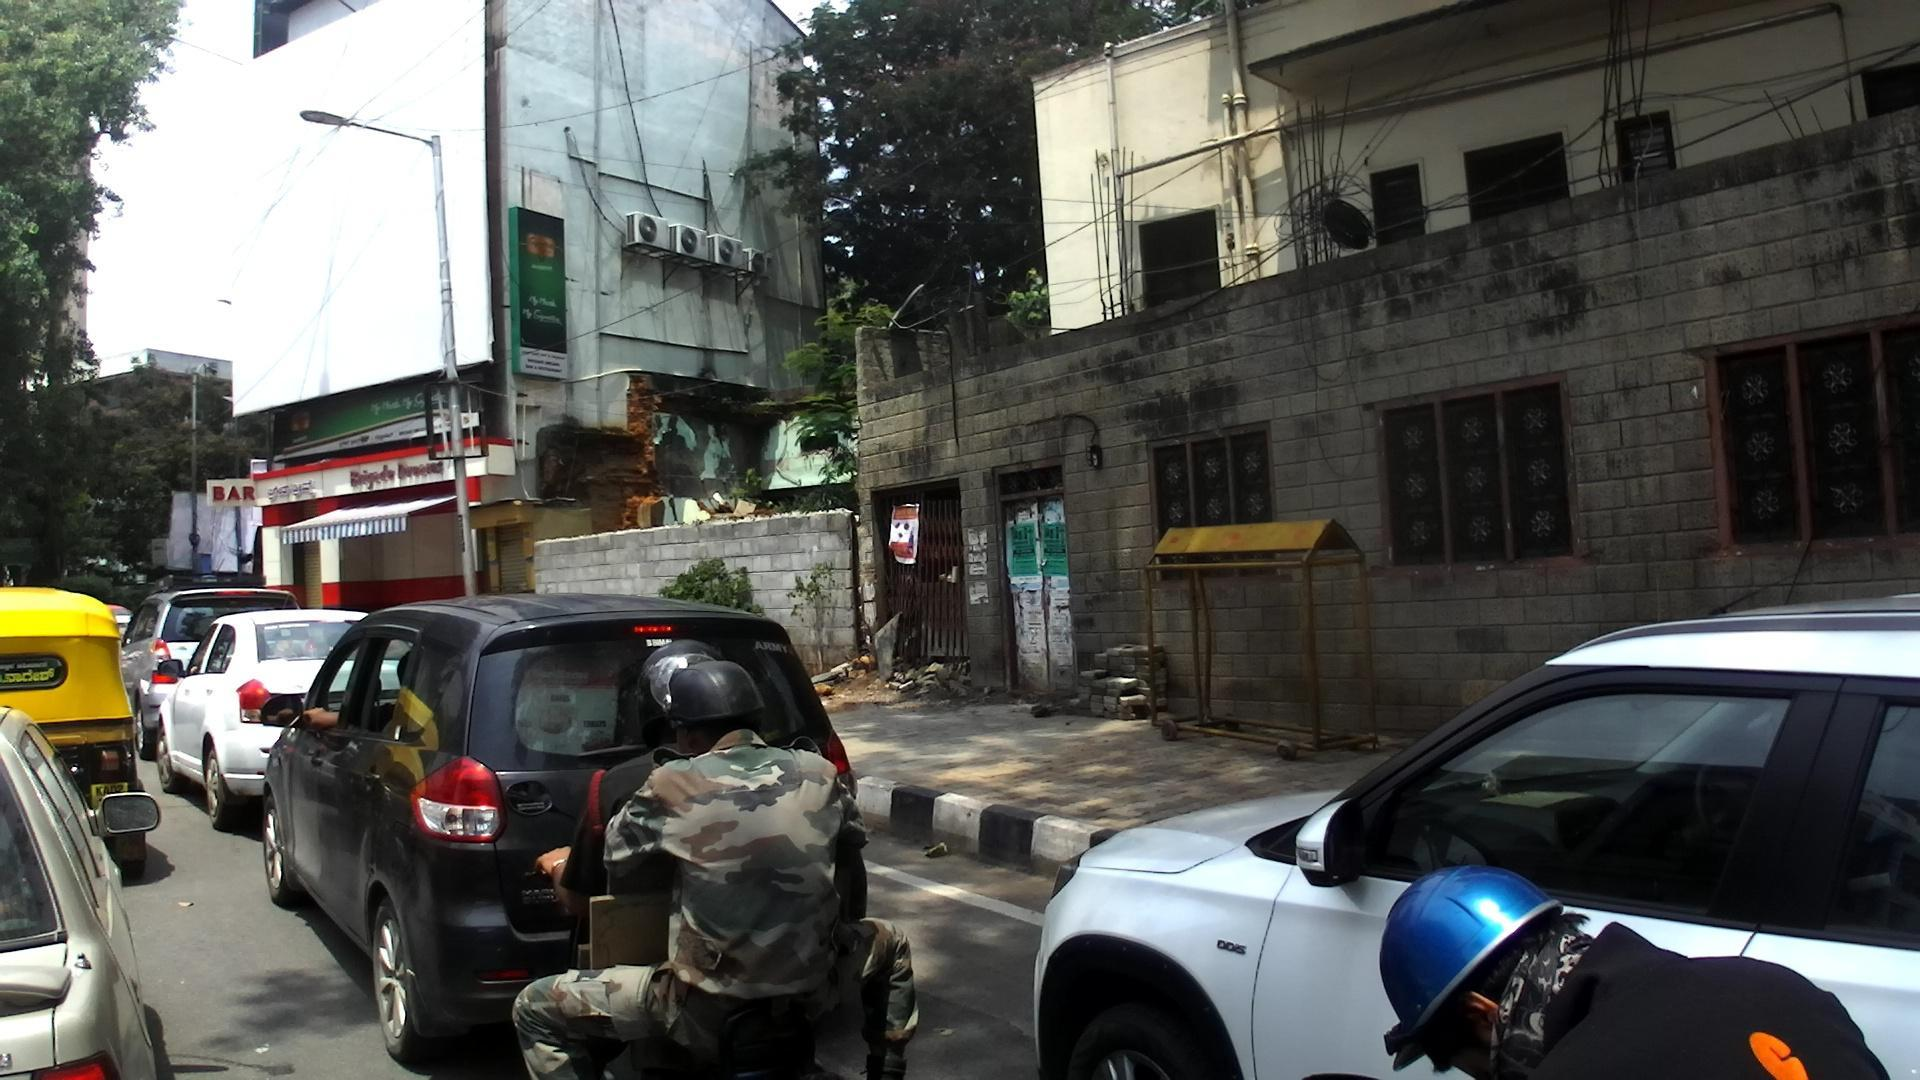off: (131, 51, 1920, 1080)
